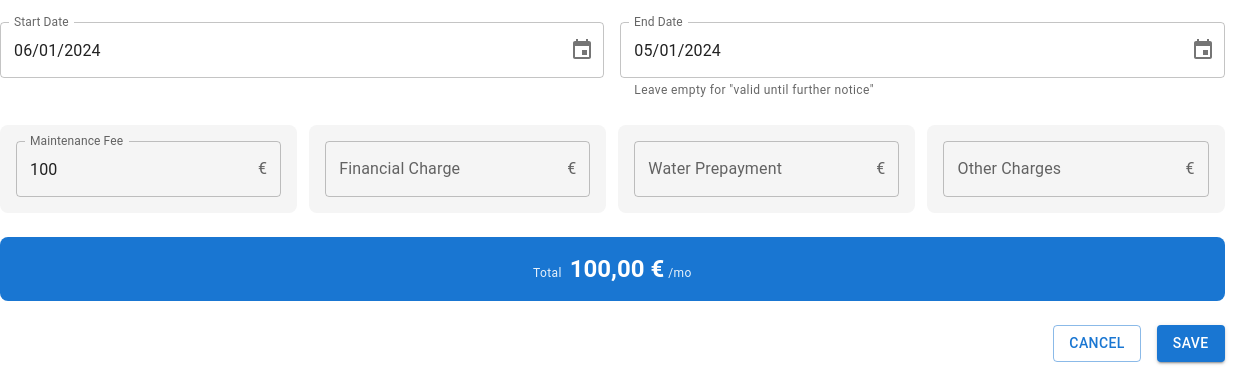
SeasonChargeForm › shows error when end date is before start date
This screenshot has width=1248, height=389.
Click the button "Save": (1191, 343) [1157,325,1225,362]
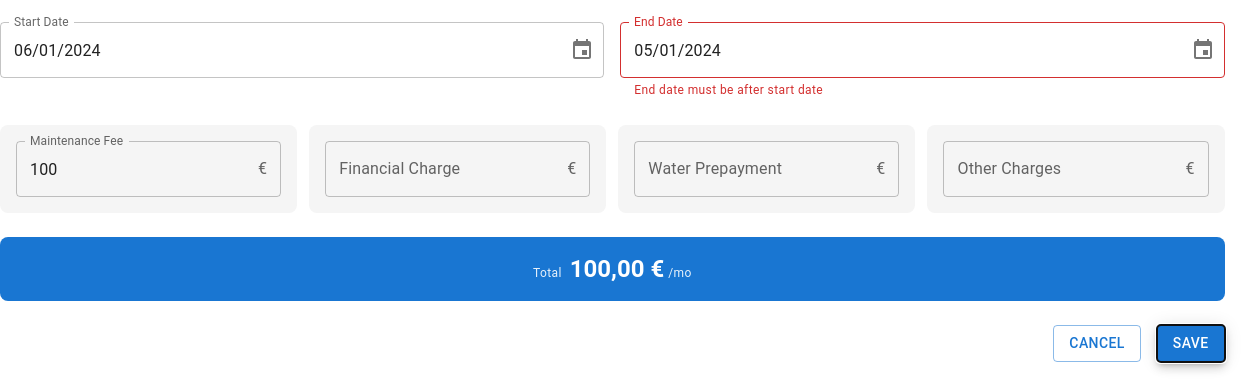
Now the text "End date must be after start date" is shown, box [634,83,823,97]
